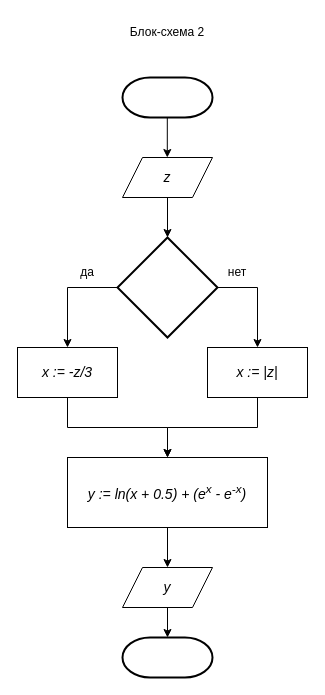
The diagram is 325 pixels wide and 695 high, and some of its shapes have lost their labels. The shapes that lost their labels are listed below. From the top down, each one's centre as x and y in pixels, then its label:
(167,97): Начало
(167,287): z < -1
(167,657): Конец
